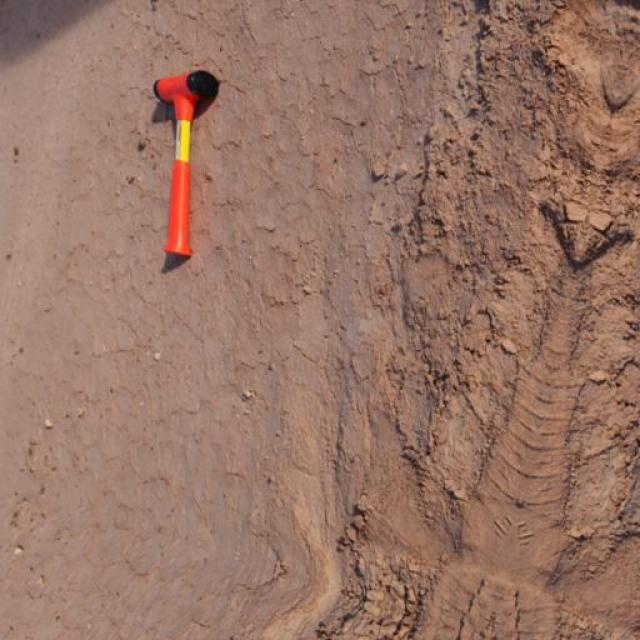mallet: (150, 68, 220, 258)
